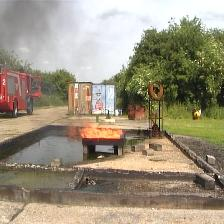fire: (79, 121, 124, 139)
